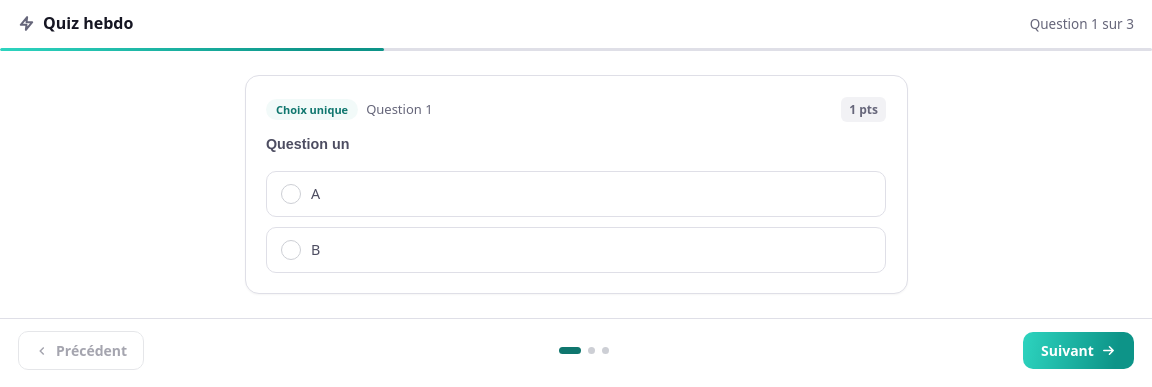
Test: QuizView — pied de navigation › « Suivant » avance et réactive « Précédent »
Expected: the text "Question un" is shown, [266,136,349,152]
Click the button "Suivant" at (1078, 351), box [1023,332,1134,369]
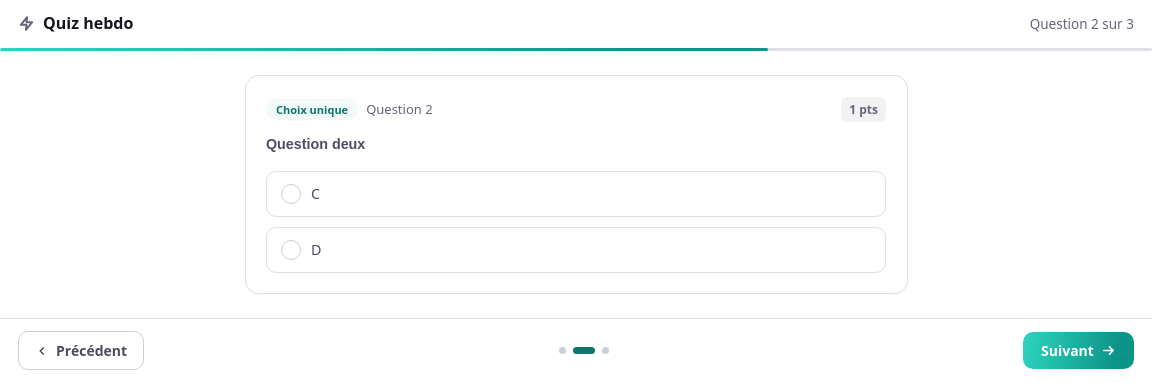
Now the text "Question deux" is shown, box [266,136,365,152]
Now the button "Précédent" is enabled, box [18,331,144,370]
